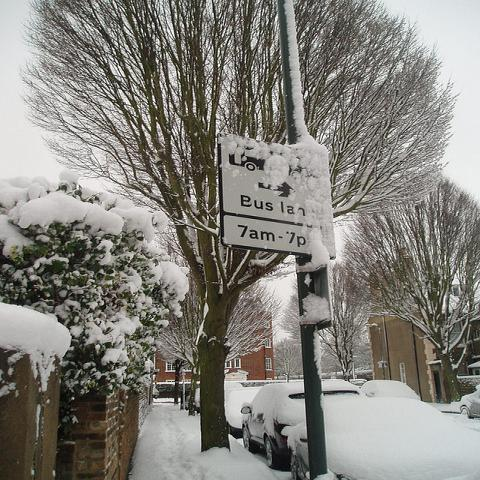car: (290, 394, 479, 480), (233, 379, 305, 469), (223, 385, 261, 438), (194, 381, 244, 413), (362, 379, 422, 401), (460, 387, 479, 420)
